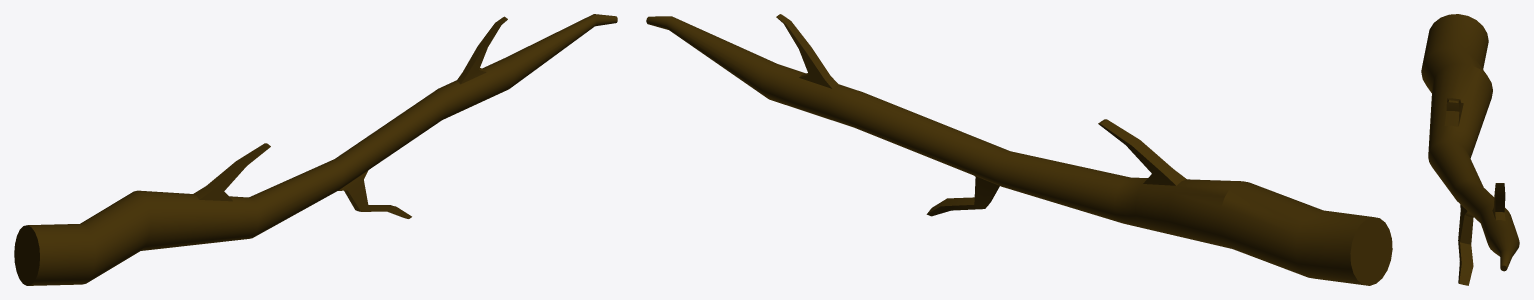
Rendered from branch2.fbx.
3 renders of one model, left to right at view 1: azimuth 30°, elevation 25°; view 2: azimuth 150°, elevation 25°; view 3: azimuth 270°, elevation 25°, orthographic. The views are drawn at different scales.
Parts seen in each view (by area): view 1: branch2; view 2: branch2; view 3: branch2.
Boxes of the visible parts, left/top/right/bottom form: branch2: left=14, top=14, right=617, bottom=285; branch2: left=646, top=14, right=1392, bottom=285; branch2: left=1421, top=14, right=1519, bottom=285.
Size of the model in its own units: 13.24 by 3.27 by 1.83.
